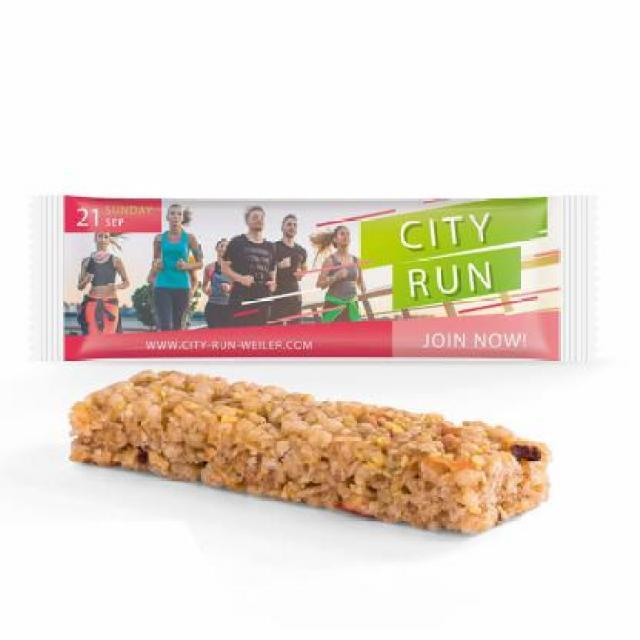Cereal bar: (29, 188, 602, 369)
Cereal bar packaged: (60, 363, 562, 537)
